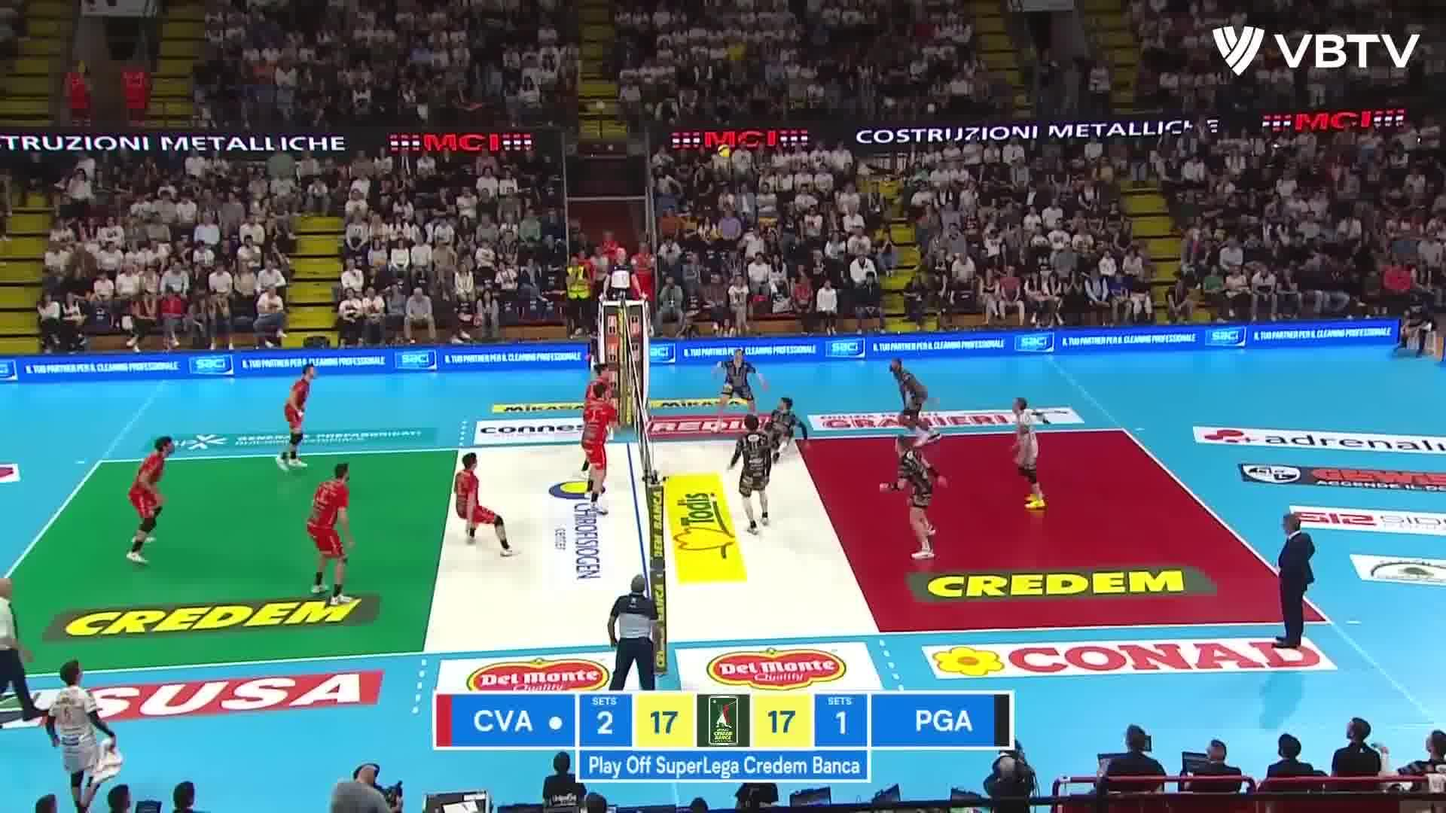balls: (714, 140, 736, 160)
